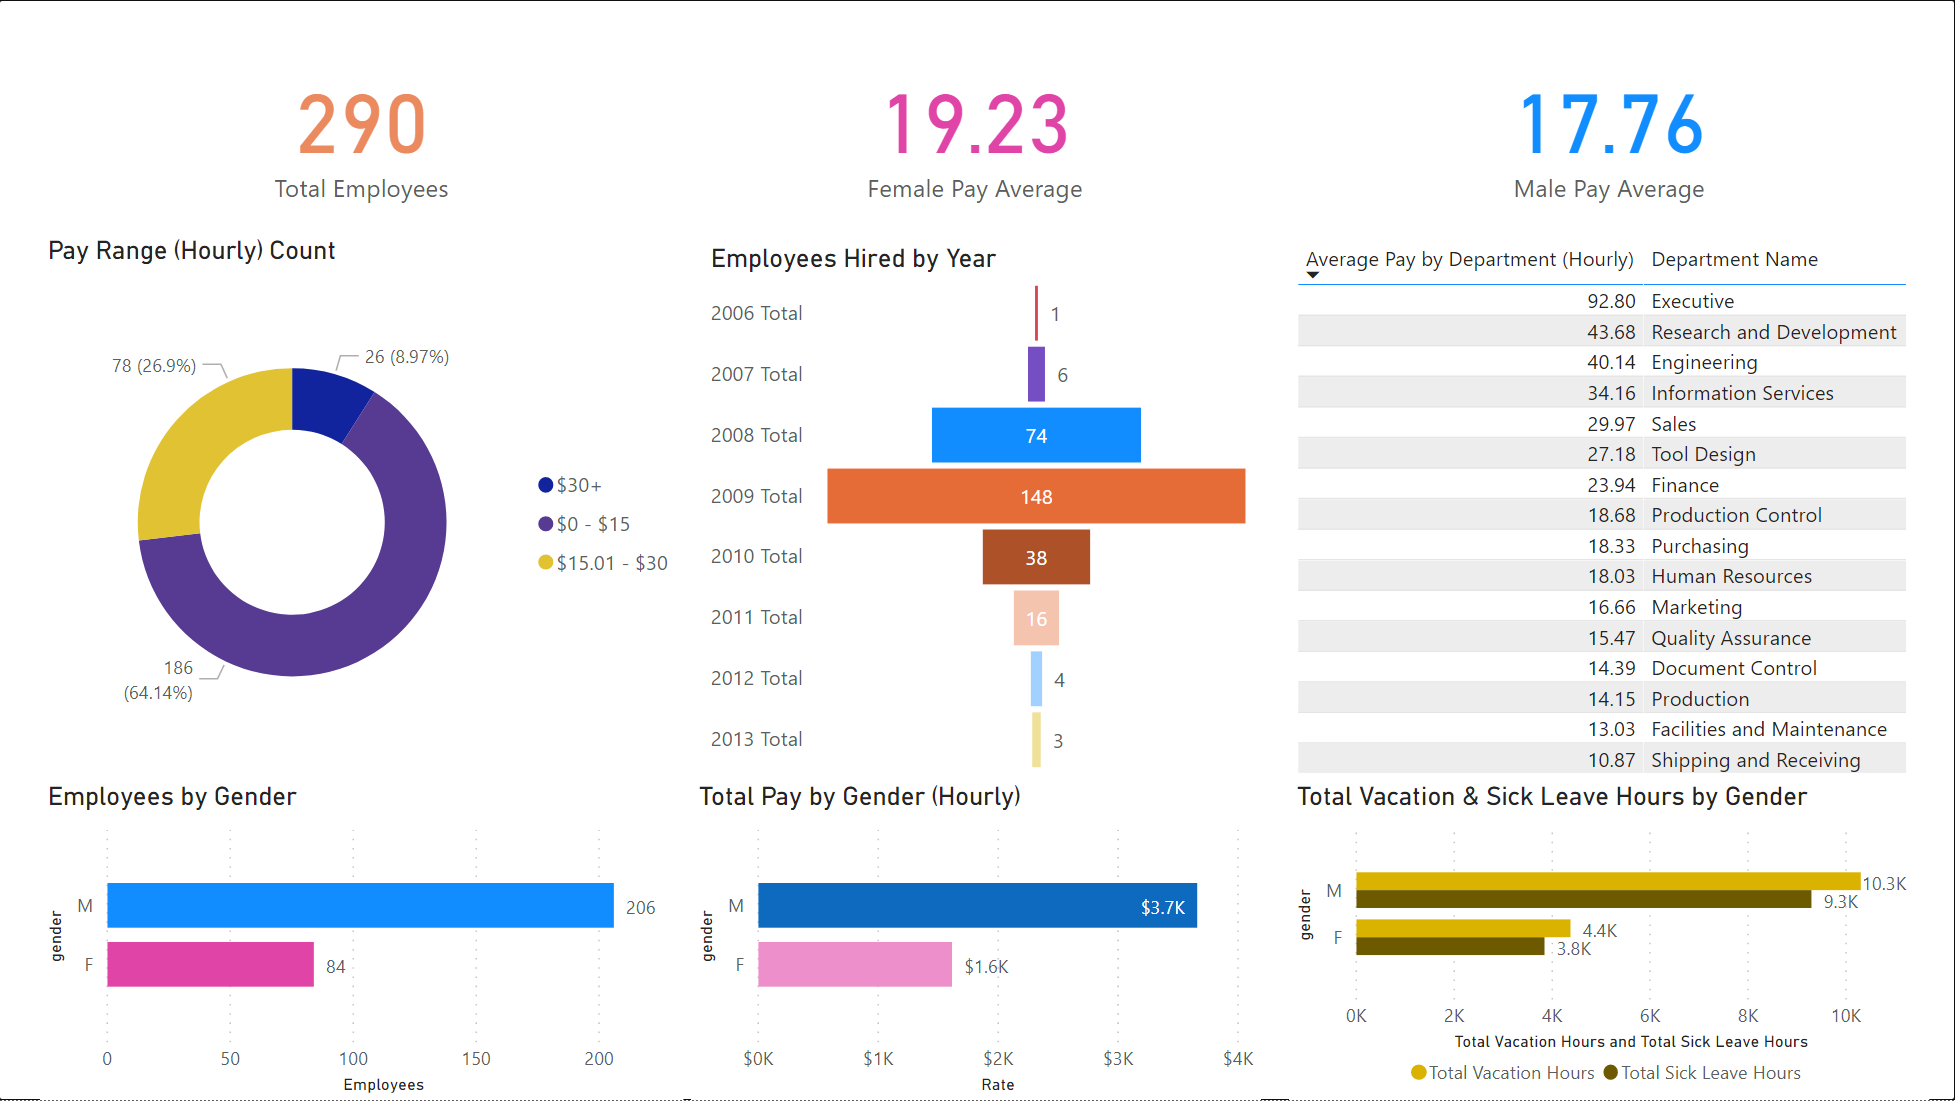

This screenshot's page, from the dashboard's own definition file:
{"tool":"powerbi","page":{"name":"Page 1","canvas":[1280,720],"ordinal":0},"visuals":[{"type":"card","fields":{"Values":["Sum(Query1.Total Employees Hired)"]},"box":[26.7,14.9,420.6,138.9],"z":0},{"type":"donutChart","title":"Pay Range (Hourly) Count","fields":{"Y":["Sum(Query2.High Total)","Sum(Query2.Low Total)","Sum(Query2.Medium Total)"]},"box":[26.7,153.8,425.8,357.4],"z":1000},{"type":"tableEx","fields":{"Values":["Avg(Query3.Pay Average by Department)","Query3.Department Name"]},"box":[844.1,153.8,419.1,357.4],"z":2000},{"type":"funnel","title":"Employees Hired by Year","fields":{"Y":["Sum(Query1.2006 Total)","Sum(Query1.2007 Total)","Sum(Query1.2008 Total)","Sum(Query1.2009 Total)","Sum(Query1.2010 Total)","Sum(Query1.2011 Total)","Sum(Query1.2012 Total)","Sum(Query1.2013 Total)"]},"box":[460.7,159,364.8,352.2],"z":3000},{"type":"card","fields":{"Values":["Avg(Query4.Pay Average by Department)"]},"box":[452.5,14.9,373,138.9],"z":4000},{"type":"card","fields":{"Values":["Avg(Query4.Pay Average by Department)"]},"box":[844.1,14.9,419.1,138.9],"z":5000},{"type":"clusteredBarChart","title":"Employees by Gender","fields":{"Y":["Sum(Query5.Employees)"],"Category":["Query5.gender"]},"box":[26.8,511.1,420.8,208.8],"z":6000},{"type":"barChart","title":"Total Pay by Gender (Hourly)","fields":{"Y":["Sum(Employee Pay.Rate)"],"Category":["Employee Pay.gender"]},"box":[452.8,511.1,373,208.8],"z":7000},{"type":"clusteredBarChart","title":"Total Vacation & Sick Leave Hours by Gender","fields":{"Category":["Query7.gender"],"Y":["Sum(Query7.Total Vacation Hours)","Sum(Query7.Ttoal Sick Leave Hours)"]},"box":[844.2,511.1,418.8,208.8],"z":7001}]}

Visuals, with their boxes in screenshot pixels (x1, y1, x2, y2), scaled from the page's 1280x720 canvas onto the 1955x1101 screenshot:
card - Sum(Query1.Total Employees Hired): [x1=41, y1=23, x2=683, y2=235]
"Pay Range (Hourly) Count" donutChart: [x1=41, y1=235, x2=691, y2=782]
tableEx - Avg(Query3.Pay Average by Department) x Query3.Department Name: [x1=1289, y1=235, x2=1929, y2=782]
"Employees Hired by Year" funnel: [x1=704, y1=243, x2=1261, y2=782]
card - Avg(Query4.Pay Average by Department): [x1=691, y1=23, x2=1261, y2=235]
card - Avg(Query4.Pay Average by Department): [x1=1289, y1=23, x2=1929, y2=235]
"Employees by Gender" clusteredBarChart: [x1=41, y1=782, x2=684, y2=1100]
"Total Pay by Gender (Hourly)" barChart: [x1=692, y1=782, x2=1261, y2=1100]
"Total Vacation & Sick Leave Hours by Gender" clusteredBarChart: [x1=1289, y1=782, x2=1929, y2=1100]
